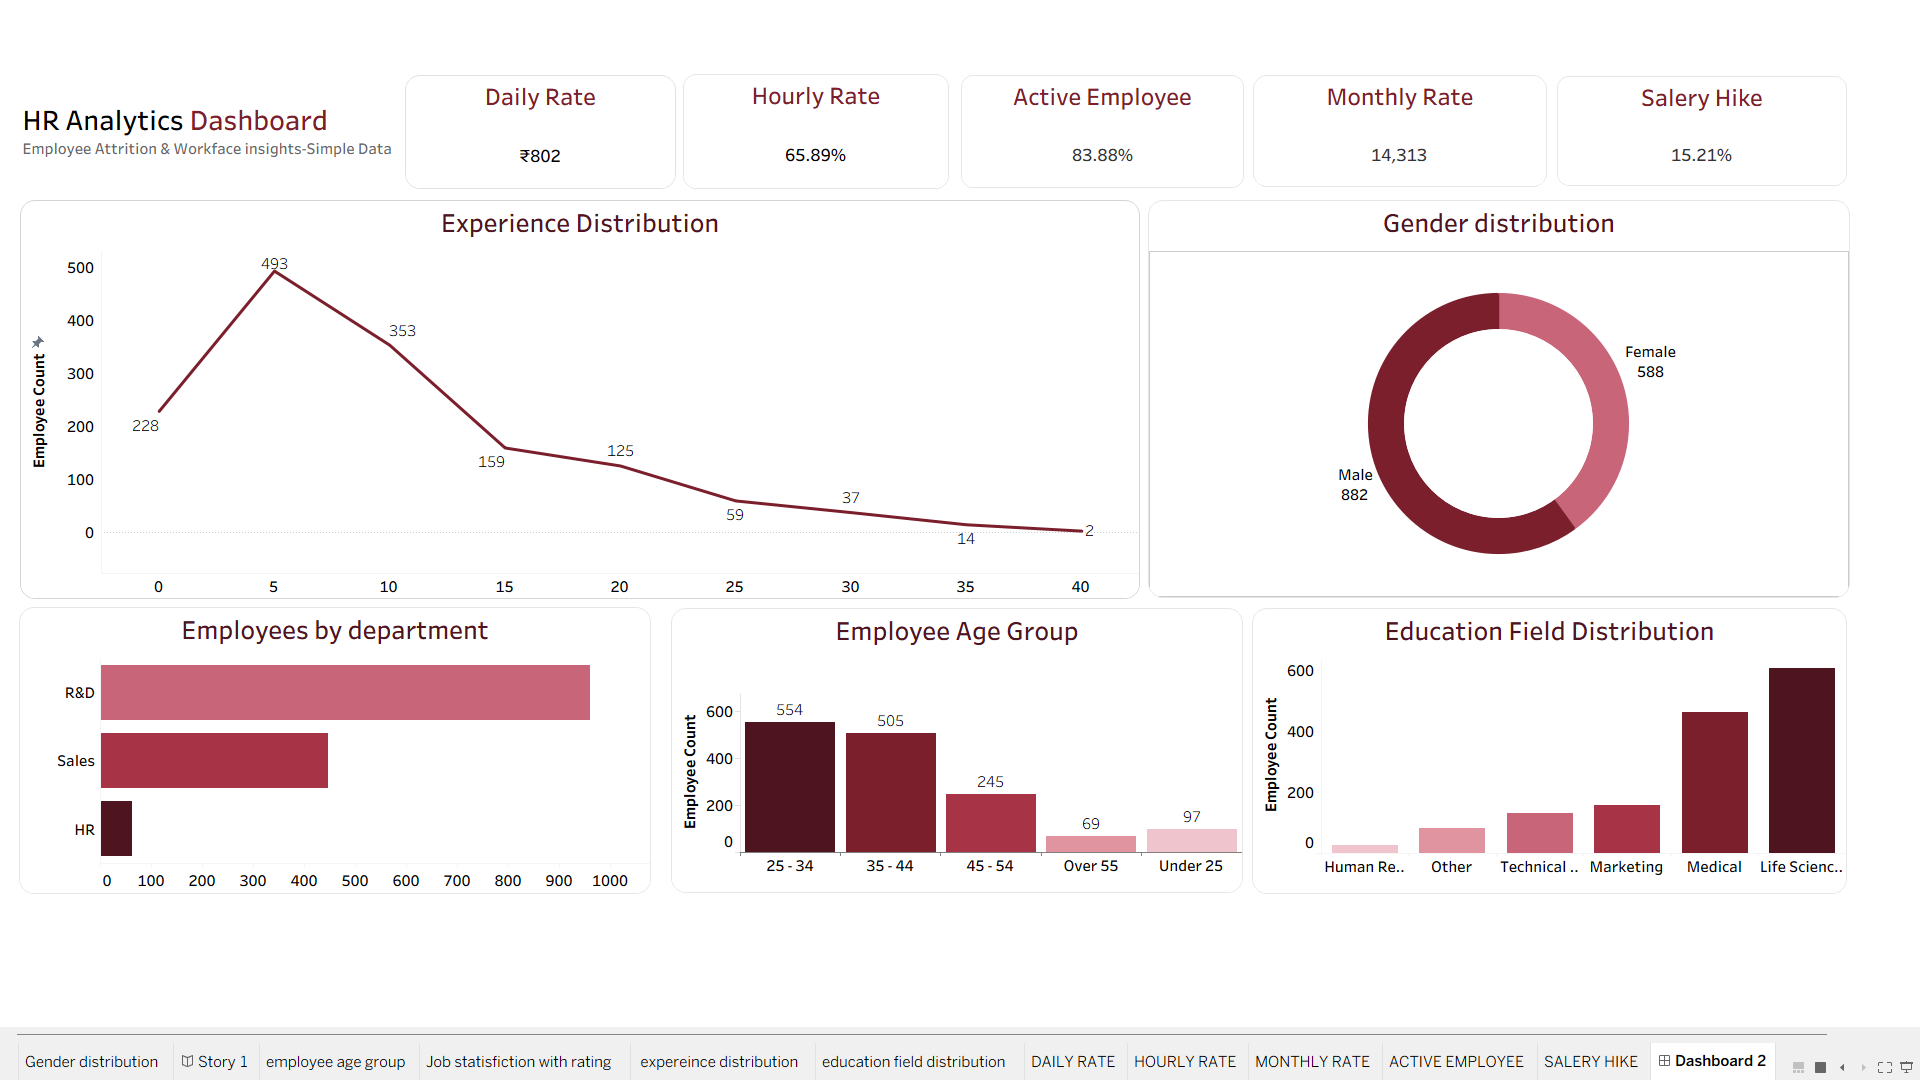

Layout of this report page (visuals, bound fields, positions):
{"tool":"tableau","page":{"name":"Dashboard 2","canvas":[2000,900],"ordinal":0},"visuals":[{"type":"worksheet","title":"HOURLY RATE","mark":"Automatic","box":[683,11,266,115]},{"type":"text","box":[19,12,386,110]},{"type":"worksheet","title":"DAILY RATE","mark":"Automatic","box":[405,12,271,114]},{"type":"worksheet","title":"ACTIVE EMPLOYEE","mark":"Automatic","box":[961,12,283,113]},{"type":"worksheet","title":"MONTHLY RATE","mark":"Automatic","box":[1253,12,294,112]},{"type":"worksheet","title":"SALERY HIKE","mark":"Automatic","box":[1557,13,290,110]},{"type":"worksheet","title":" expereince distribution","mark":"Line","rows":["Employee Count"],"cols":["Total Working Years (bin)"],"box":[20,137,1120,399]},{"type":"worksheet","title":"Gender distribution","mark":"Pie","rows":["Calculation_1190244053266437","Calculation_1190244053381127"],"box":[1148,137,702,398]},{"type":"worksheet","title":"employees by department ","mark":"Bar","rows":["Department"],"cols":["Employee Count"],"box":[19,544,632,287]},{"type":"worksheet","title":"employee age group","mark":"Bar","rows":["Employee Count"],"cols":["CF_age band"],"box":[671,545,572,285]},{"type":"worksheet","title":"education field distribution","mark":"Automatic","rows":["Employee Count"],"cols":["Education Field"],"box":[1252,545,595,286]}]}

Visuals, with their boxes on the page's 2000x900 design canvas (x1, y1, x2, y2). These are canvas units, not pixel positions in the 1920x1080 screenshot, which may show the page scaled, cropped or inside an application window:
"HOURLY RATE" worksheet: BBox(683, 11, 949, 126)
text: BBox(19, 12, 405, 122)
"DAILY RATE" worksheet: BBox(405, 12, 676, 126)
"ACTIVE EMPLOYEE" worksheet: BBox(961, 12, 1244, 125)
"MONTHLY RATE" worksheet: BBox(1253, 12, 1547, 124)
"SALERY HIKE" worksheet: BBox(1557, 13, 1847, 123)
" expereince distribution" worksheet (Line marks): BBox(20, 137, 1140, 536)
"Gender distribution" worksheet (Pie marks): BBox(1148, 137, 1850, 535)
"employees by department " worksheet (Bar marks): BBox(19, 544, 651, 831)
"employee age group" worksheet (Bar marks): BBox(671, 545, 1243, 830)
"education field distribution" worksheet: BBox(1252, 545, 1847, 831)
